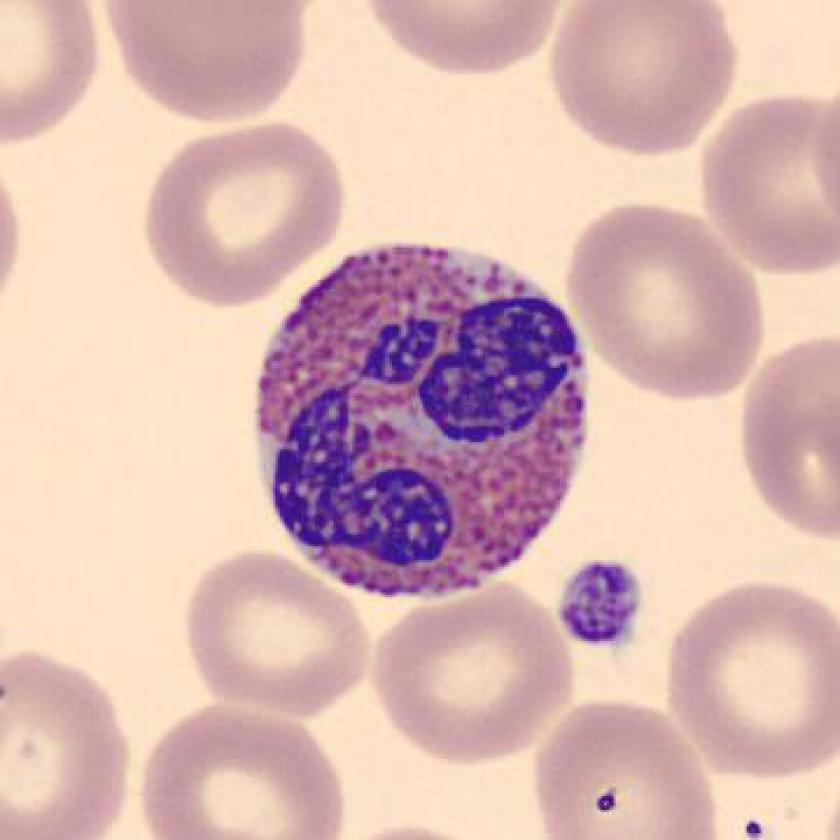eosinophil: (246, 230, 601, 614)
